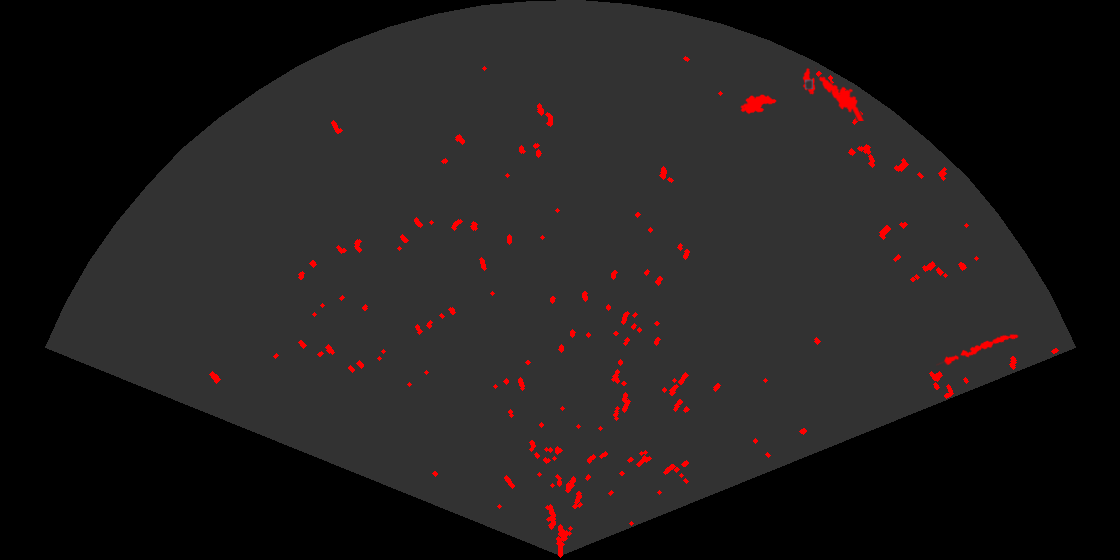AUV: (739, 93, 778, 116), (802, 66, 817, 96)
chain: (936, 332, 1020, 367)
frogman: (815, 66, 865, 121)
